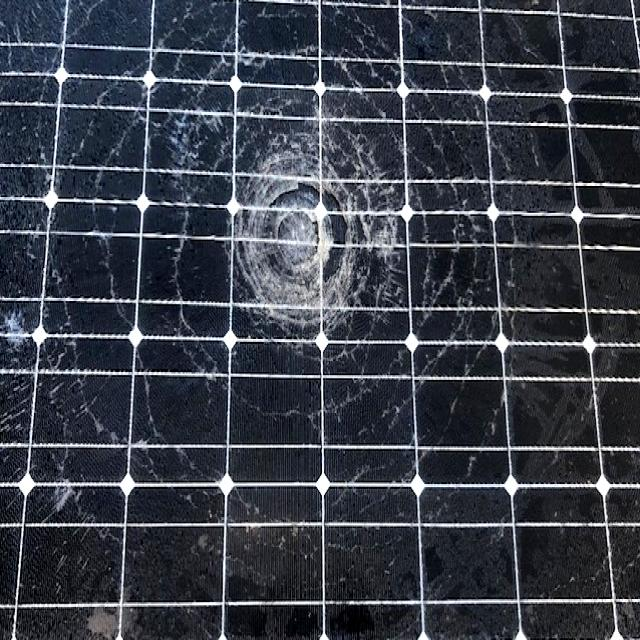hotspot: (222, 124, 382, 348)
